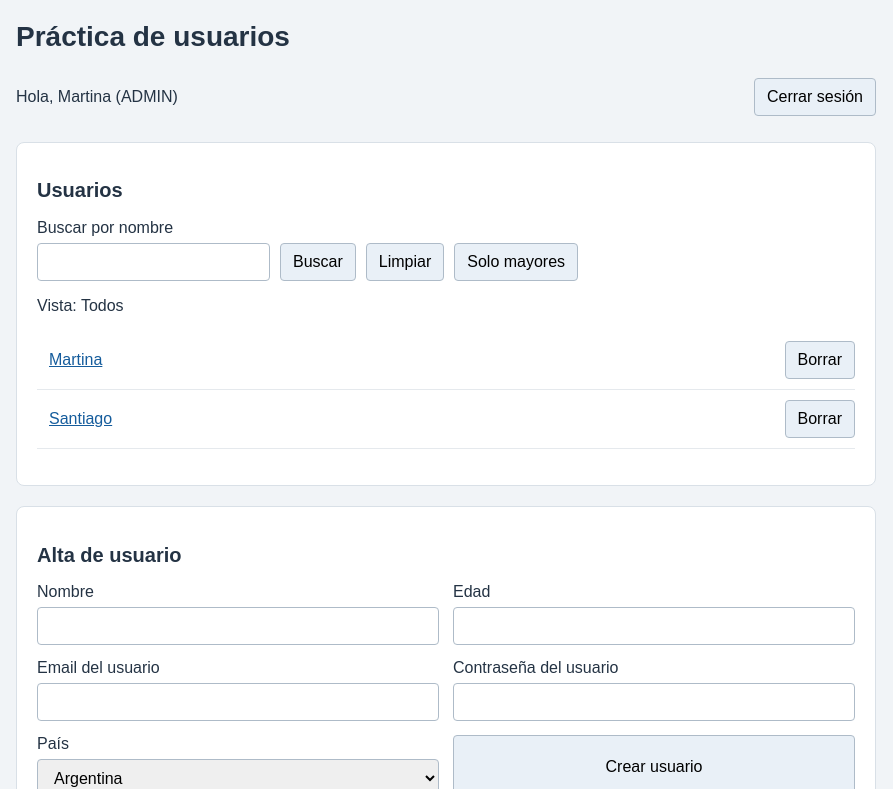
Test: 403 al crear muestra el mensaje y no agrega usuario
The image size is (893, 789).
Expected: the text "Hola, Martina (ADMIN)" is shown, top-left (16, 88), bottom-right (178, 106)
Expected: the button "Santiago" is shown, top-left (37, 400), bottom-right (124, 438)
In the field labelled "Nombre": (238, 626) top-left (37, 607), bottom-right (439, 645), type "Prueba"
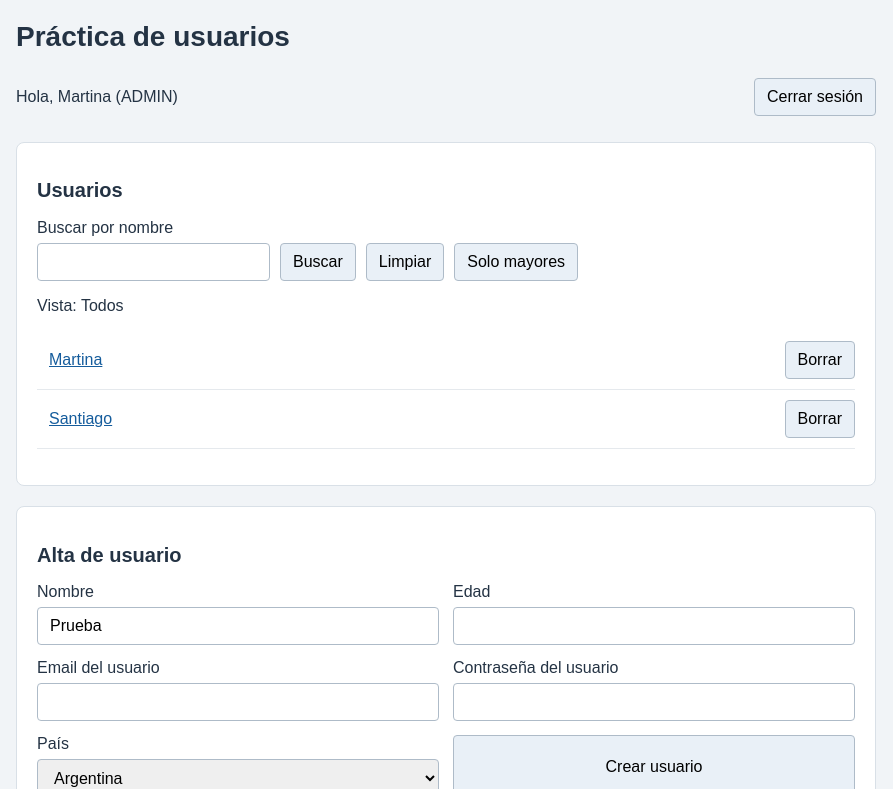
In the number field labelled "Edad": (654, 626) top-left (453, 607), bottom-right (855, 645), type "16"
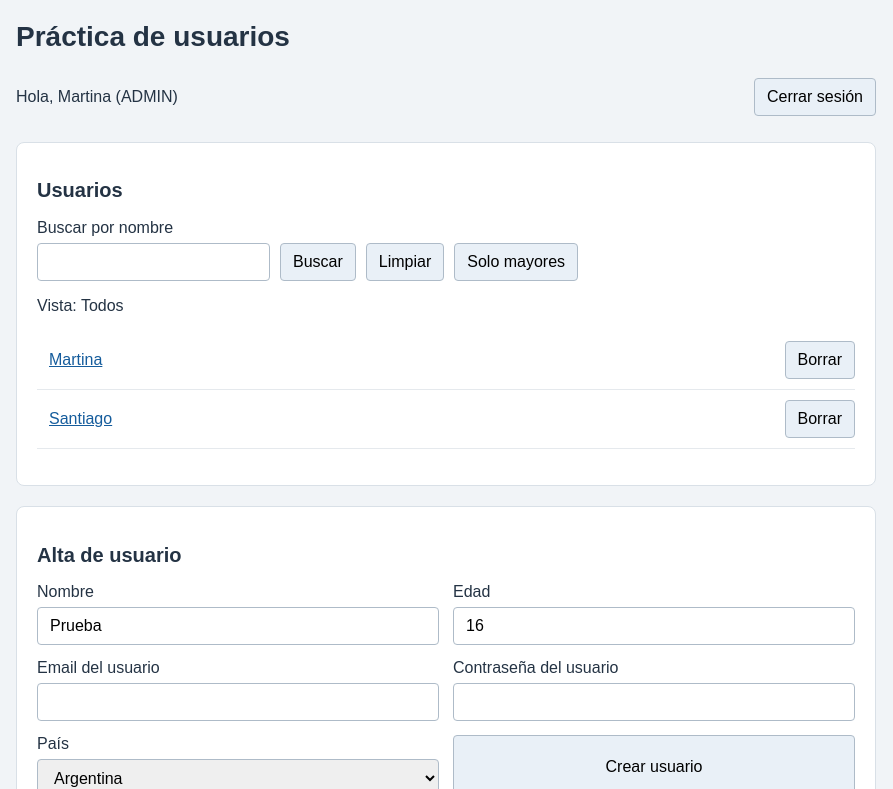
In the field labelled "Email del usuario": (238, 702) top-left (37, 683), bottom-right (439, 721), type "prueba@example.com"
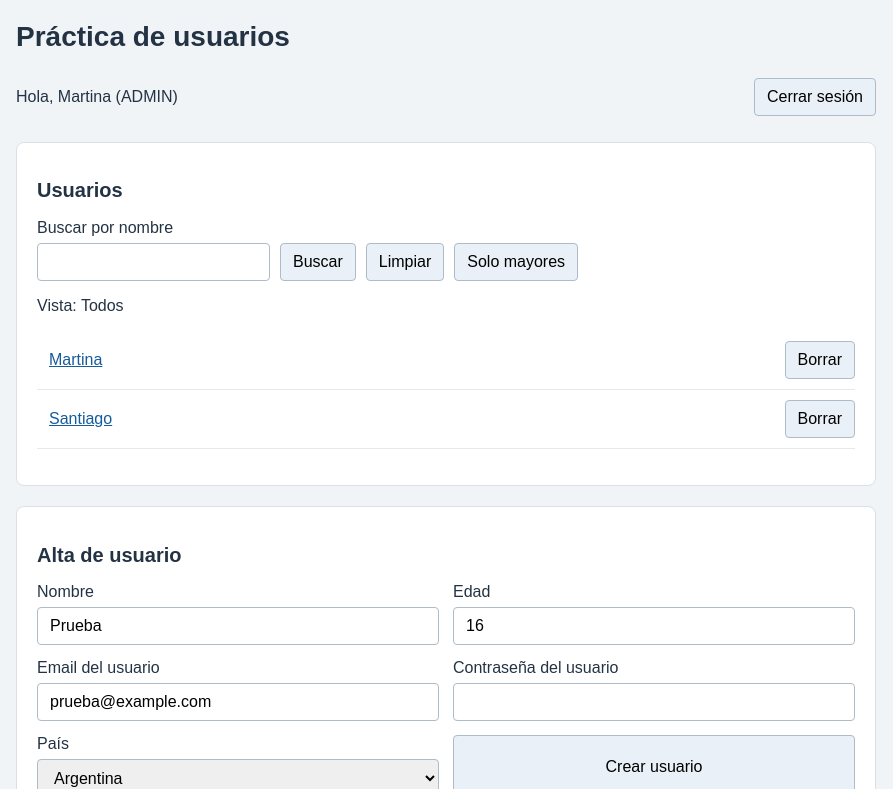
In the password field labelled "Contraseña del usuario": (654, 702) top-left (453, 683), bottom-right (855, 721), type "abcd"
(page scrolled)
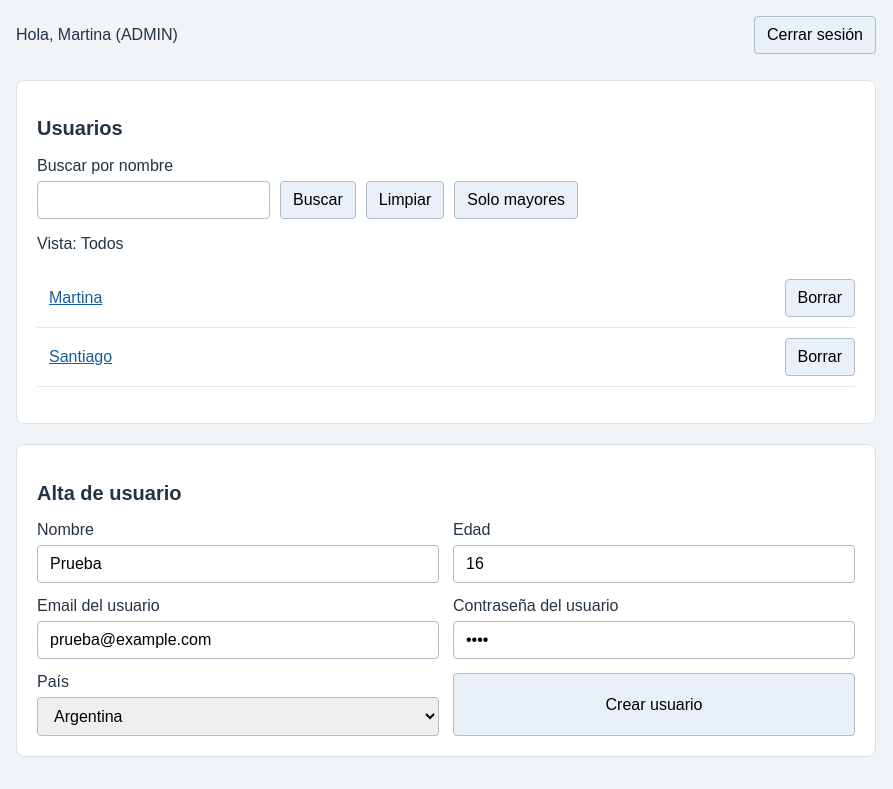
Click the button "Crear usuario": (654, 705) top-left (453, 673), bottom-right (855, 736)
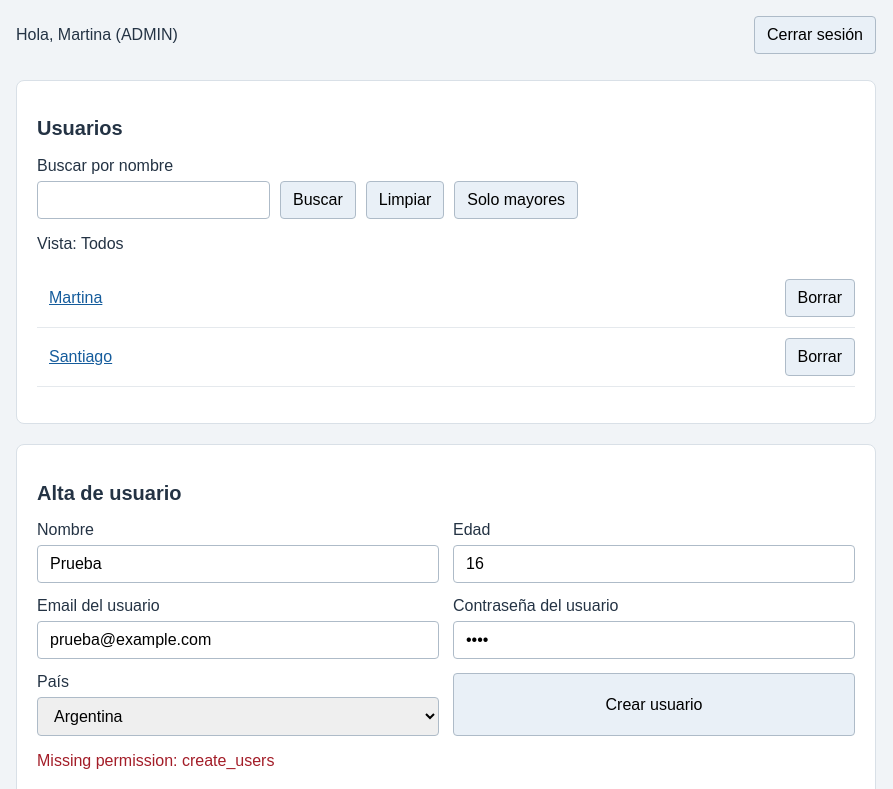
Result: the text "Missing permission: create_users" is shown at top-left (37, 752), bottom-right (274, 769)
